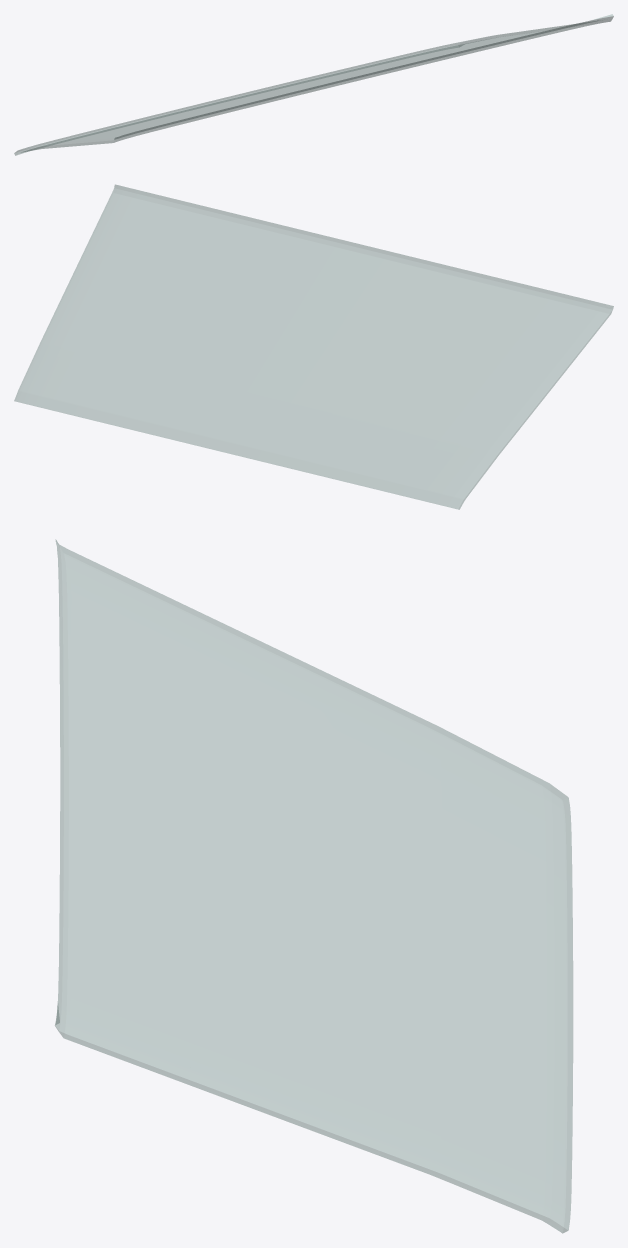
The model's file is para_brisa_picape.glb.
3 views of the same model, one above another, from view 1: azimuth 30°, elevation 25°; view 2: azimuth 150°, elevation 25°; view 3: azimuth 270°, elevation 25° (orthographic). The views are drawn at different scales.
Parts seen in each view (by area): view 1: para_brisa_picape_vidro; view 2: para_brisa_picape_vidro; view 3: para_brisa_picape_vidro.
Part boxes in pixels (bbox=[...]): para_brisa_picape_vidro: bbox=[14, 14, 613, 155]; para_brisa_picape_vidro: bbox=[14, 184, 613, 509]; para_brisa_picape_vidro: bbox=[55, 539, 573, 1233].
Size of the model in its own units: 1.47 by 0.3355 by 0.6637.
